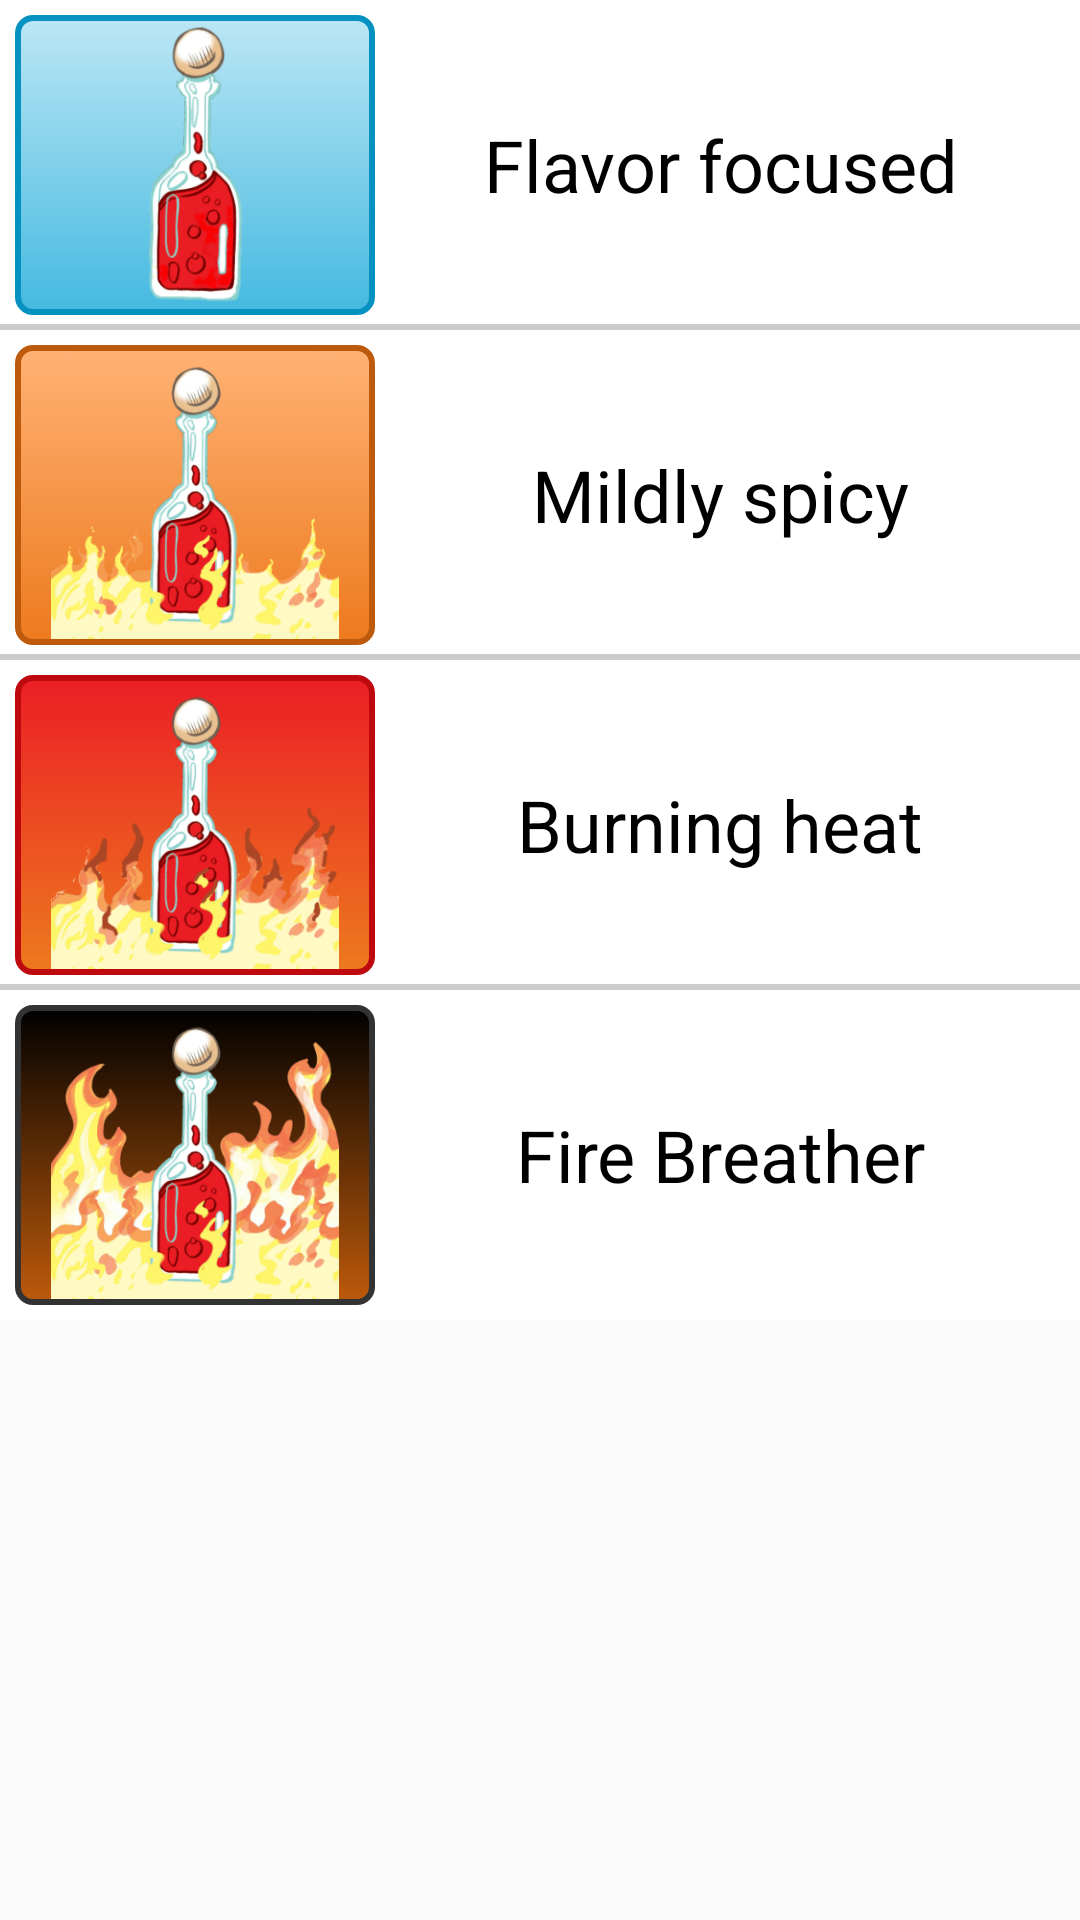

Icon bounding boxes for this 1080*1920 phone screenshot, format (left=x1, top=y1, right=x2, bottom=y2):
hotsauce clear: (left=15, top=15, right=375, bottom=315)
